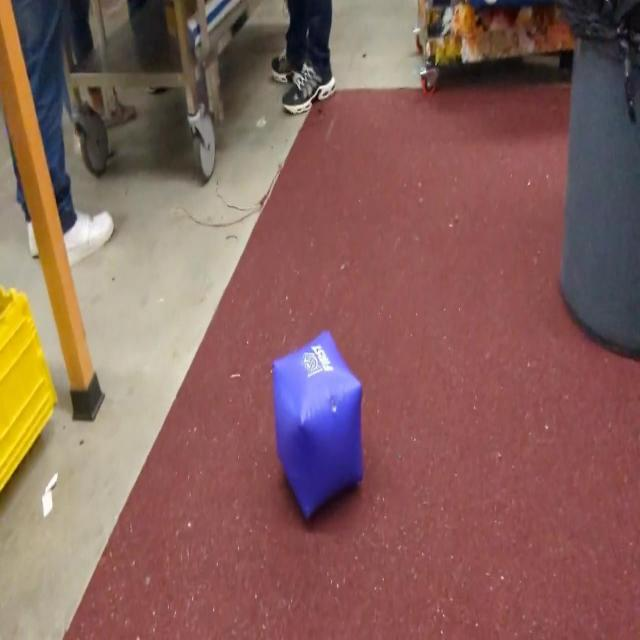frc_cube: (269, 330, 363, 524)
